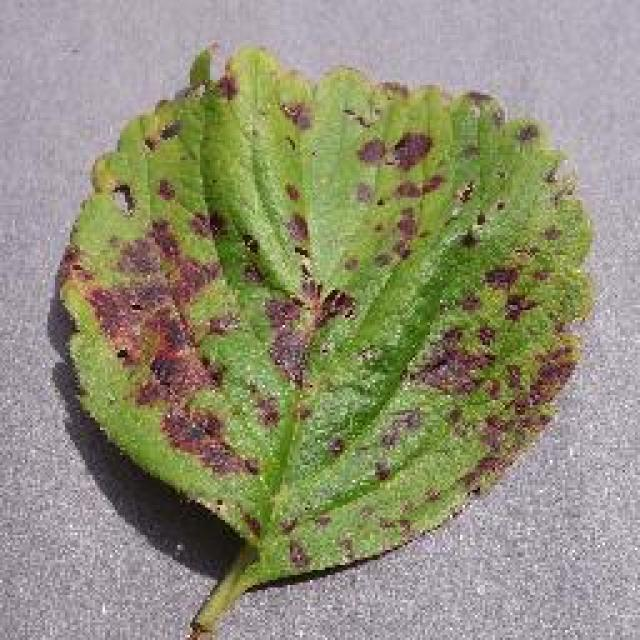Strawberry leaf scorch: (98, 137, 537, 468)
